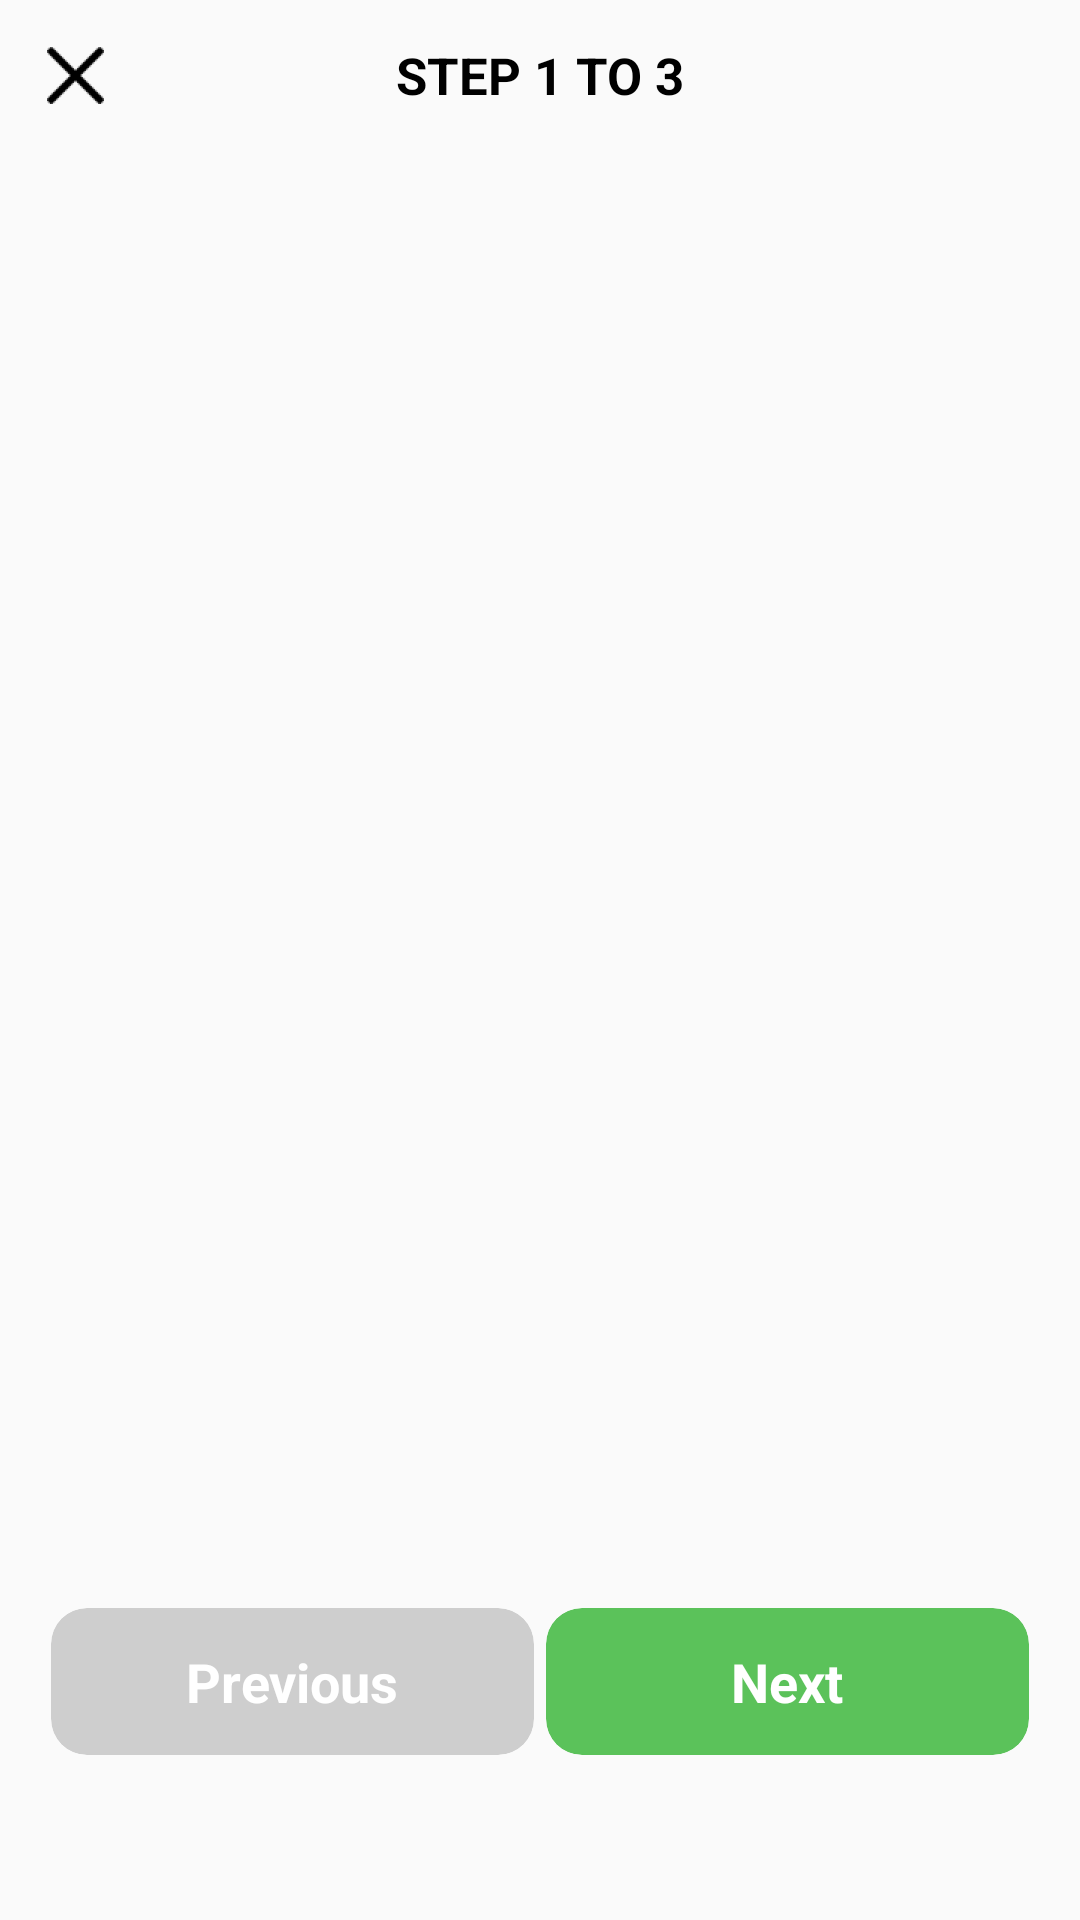

Locate icon controls on the screen. Image size 1080 × 1920, boxes as BBox(x1, y1, x2, y2).
close: BBox(47, 47, 104, 104)
